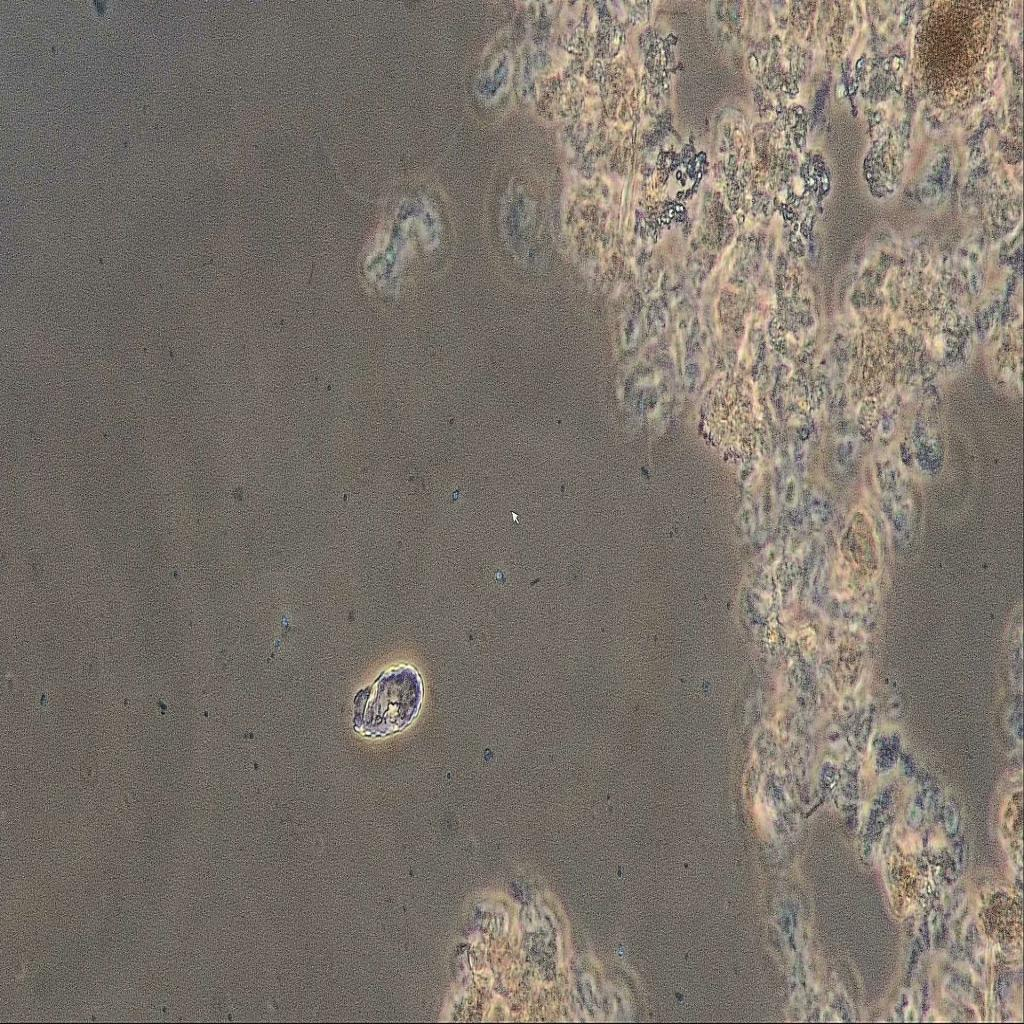Euglypha: (341, 631, 436, 767)
